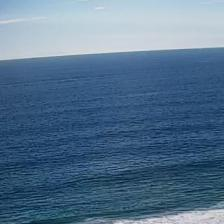surfer: (149, 184, 157, 187)
